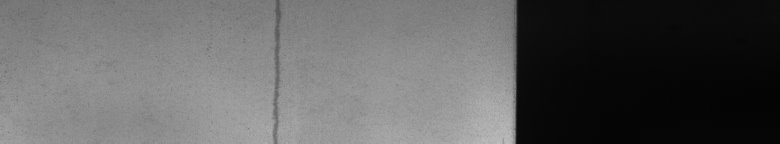hd: (265, 4, 284, 136)
